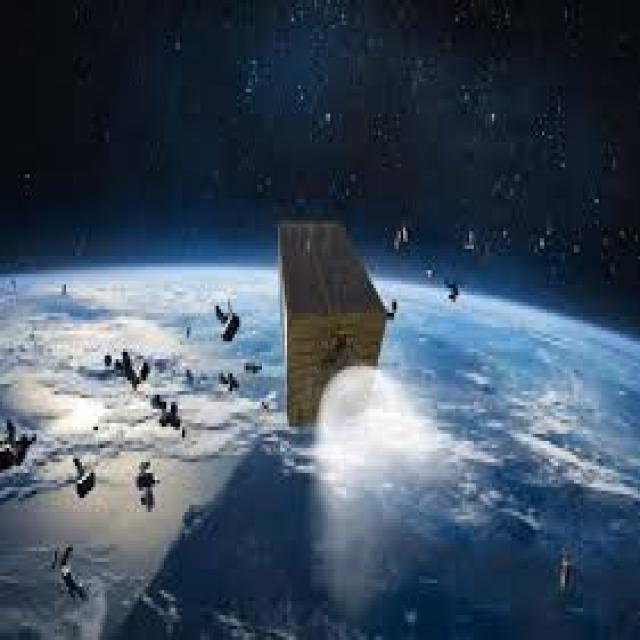large_debris: (1, 270, 258, 628), (430, 246, 482, 343)
satellite: (264, 206, 399, 442)
